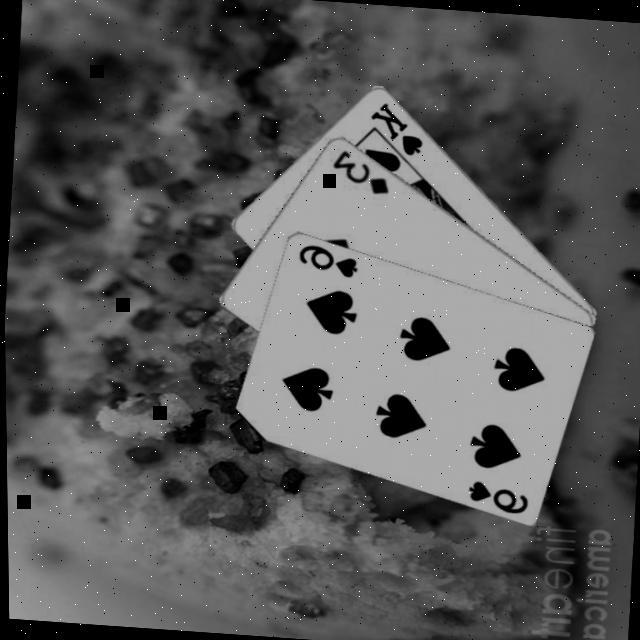3D: (325, 143, 393, 195)
6S: (292, 238, 360, 278), (461, 474, 529, 514)
KS: (363, 95, 427, 157)
